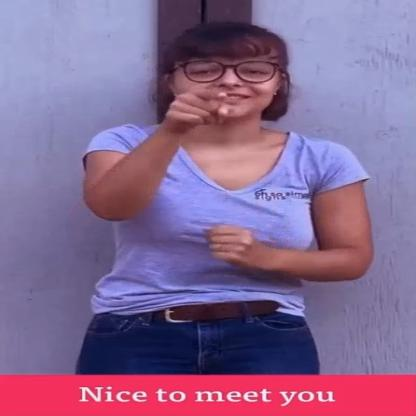NiceToMeetYou: (88, 13, 377, 380)
